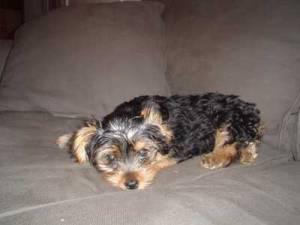dog: (69, 99, 170, 190)
